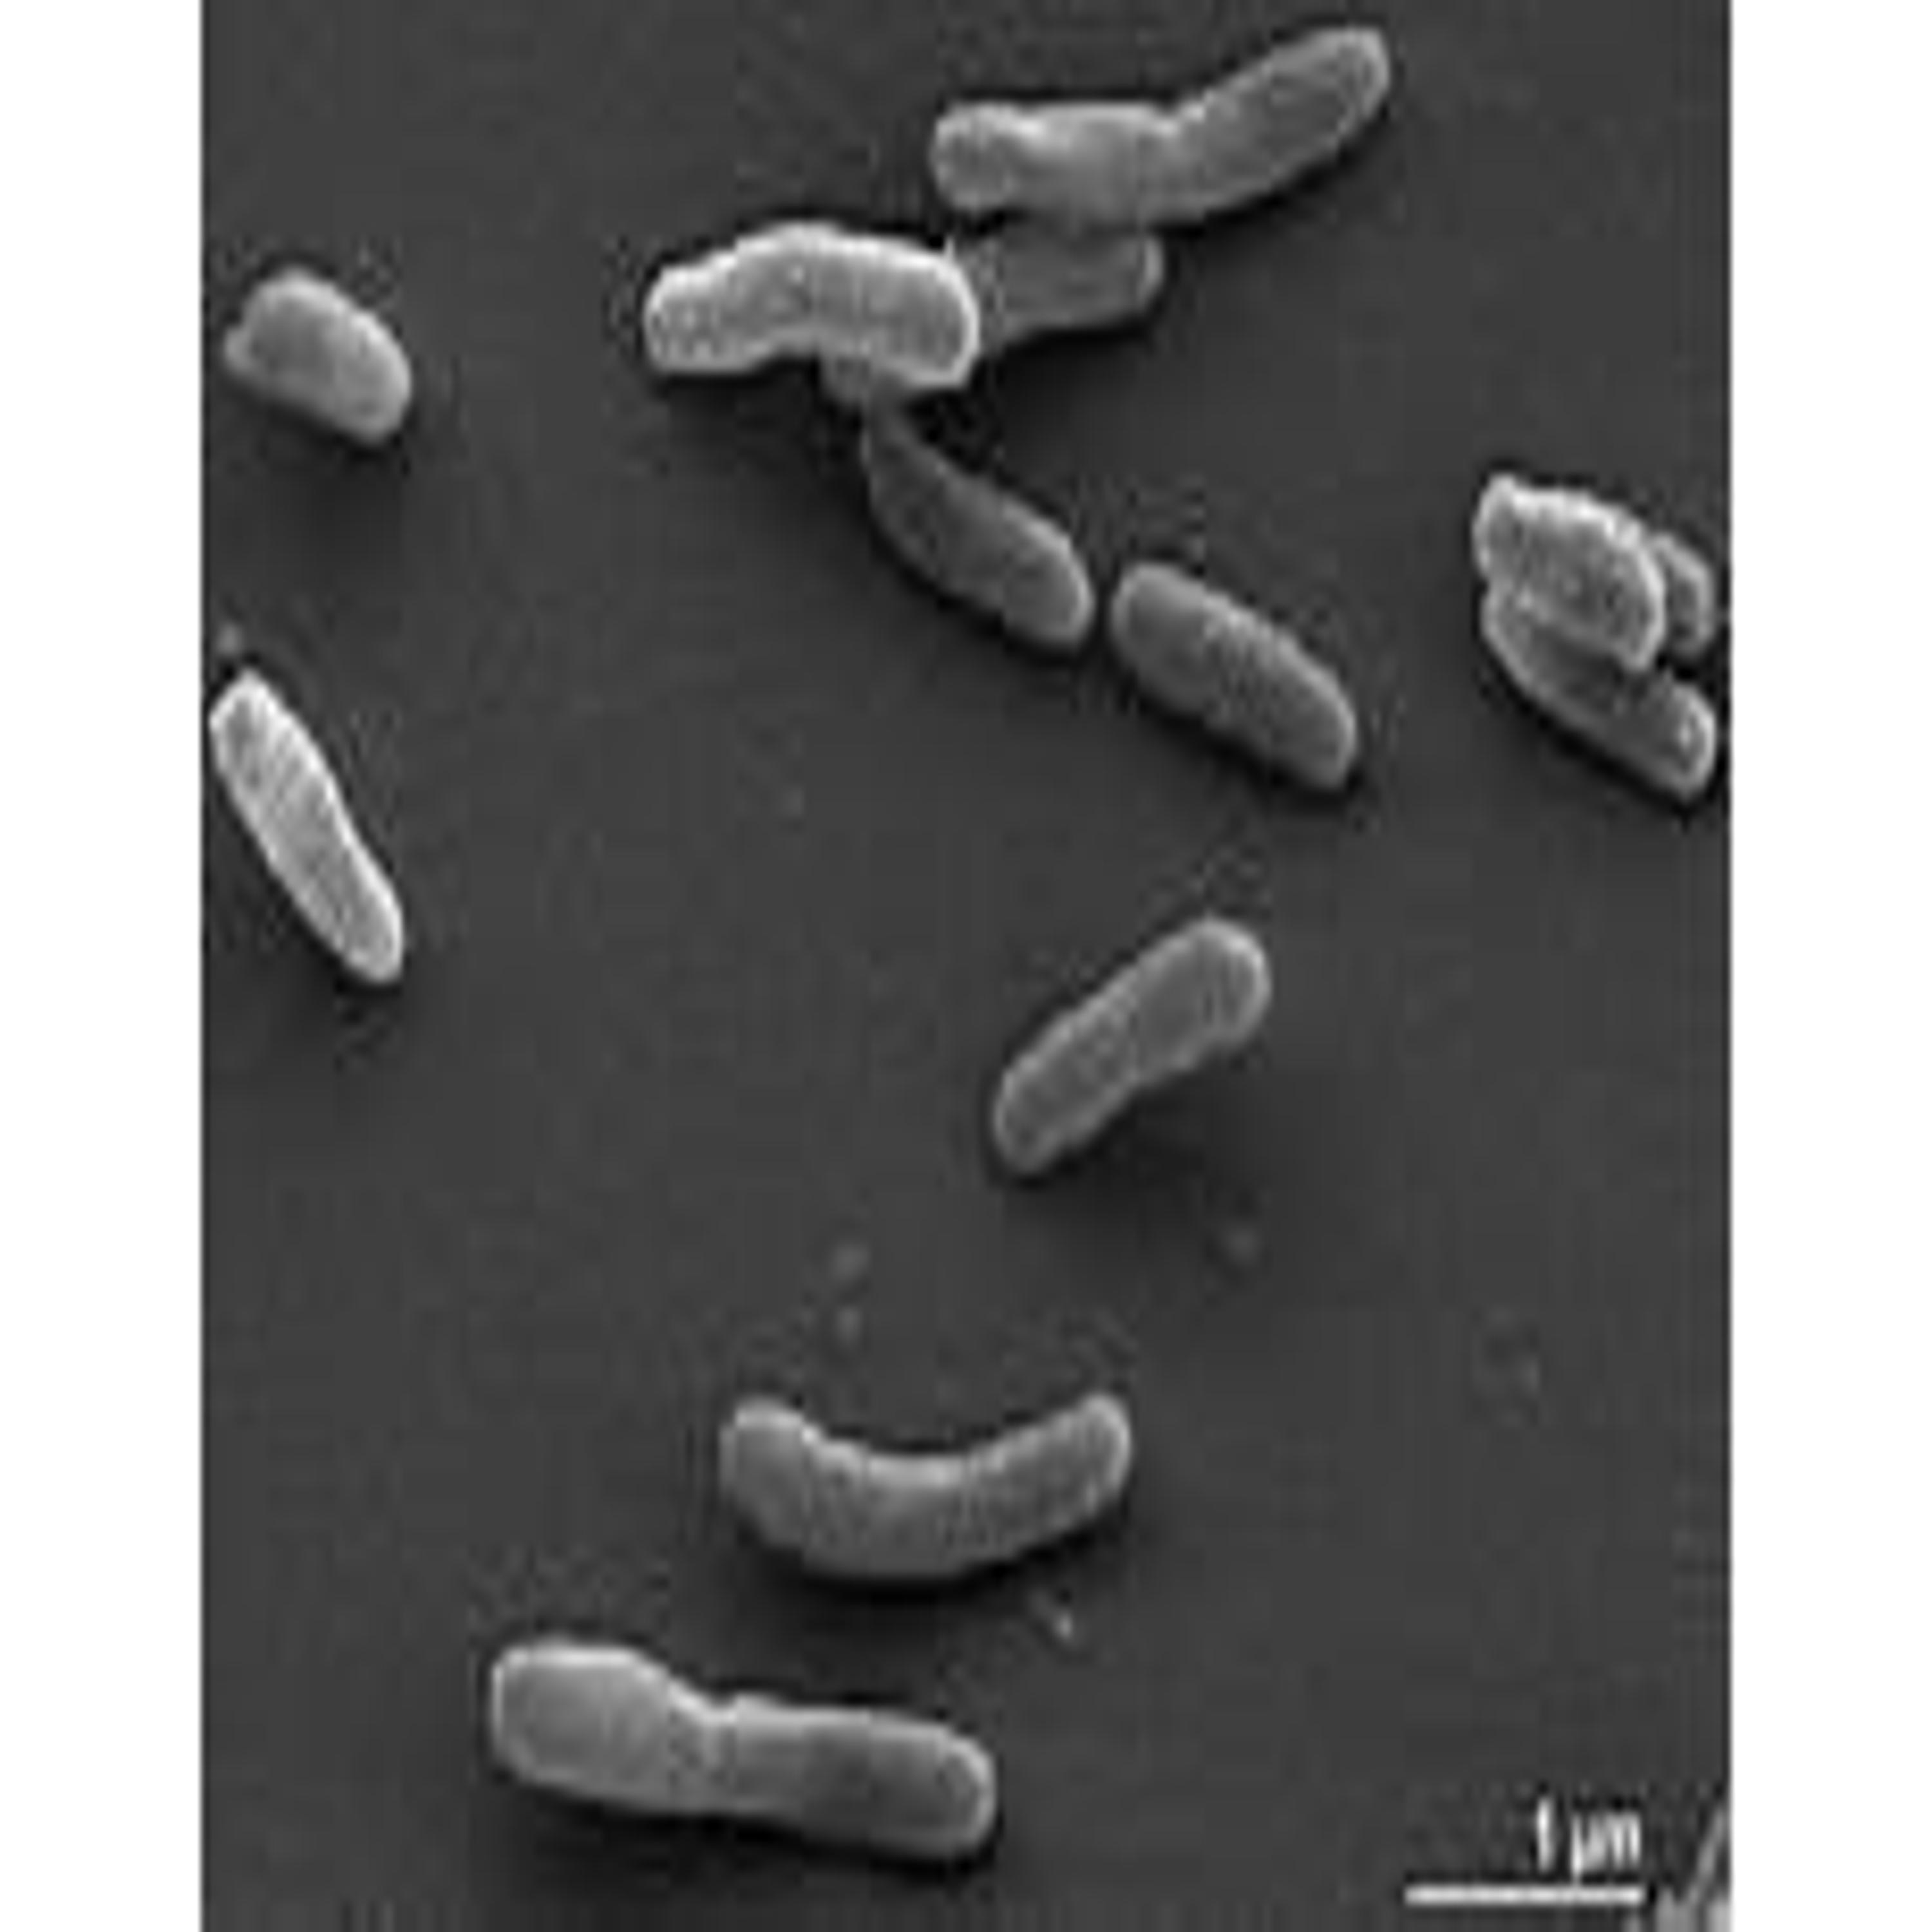salmonella_typhi5: (713, 1368, 1132, 1591), (993, 920, 1274, 1184)
